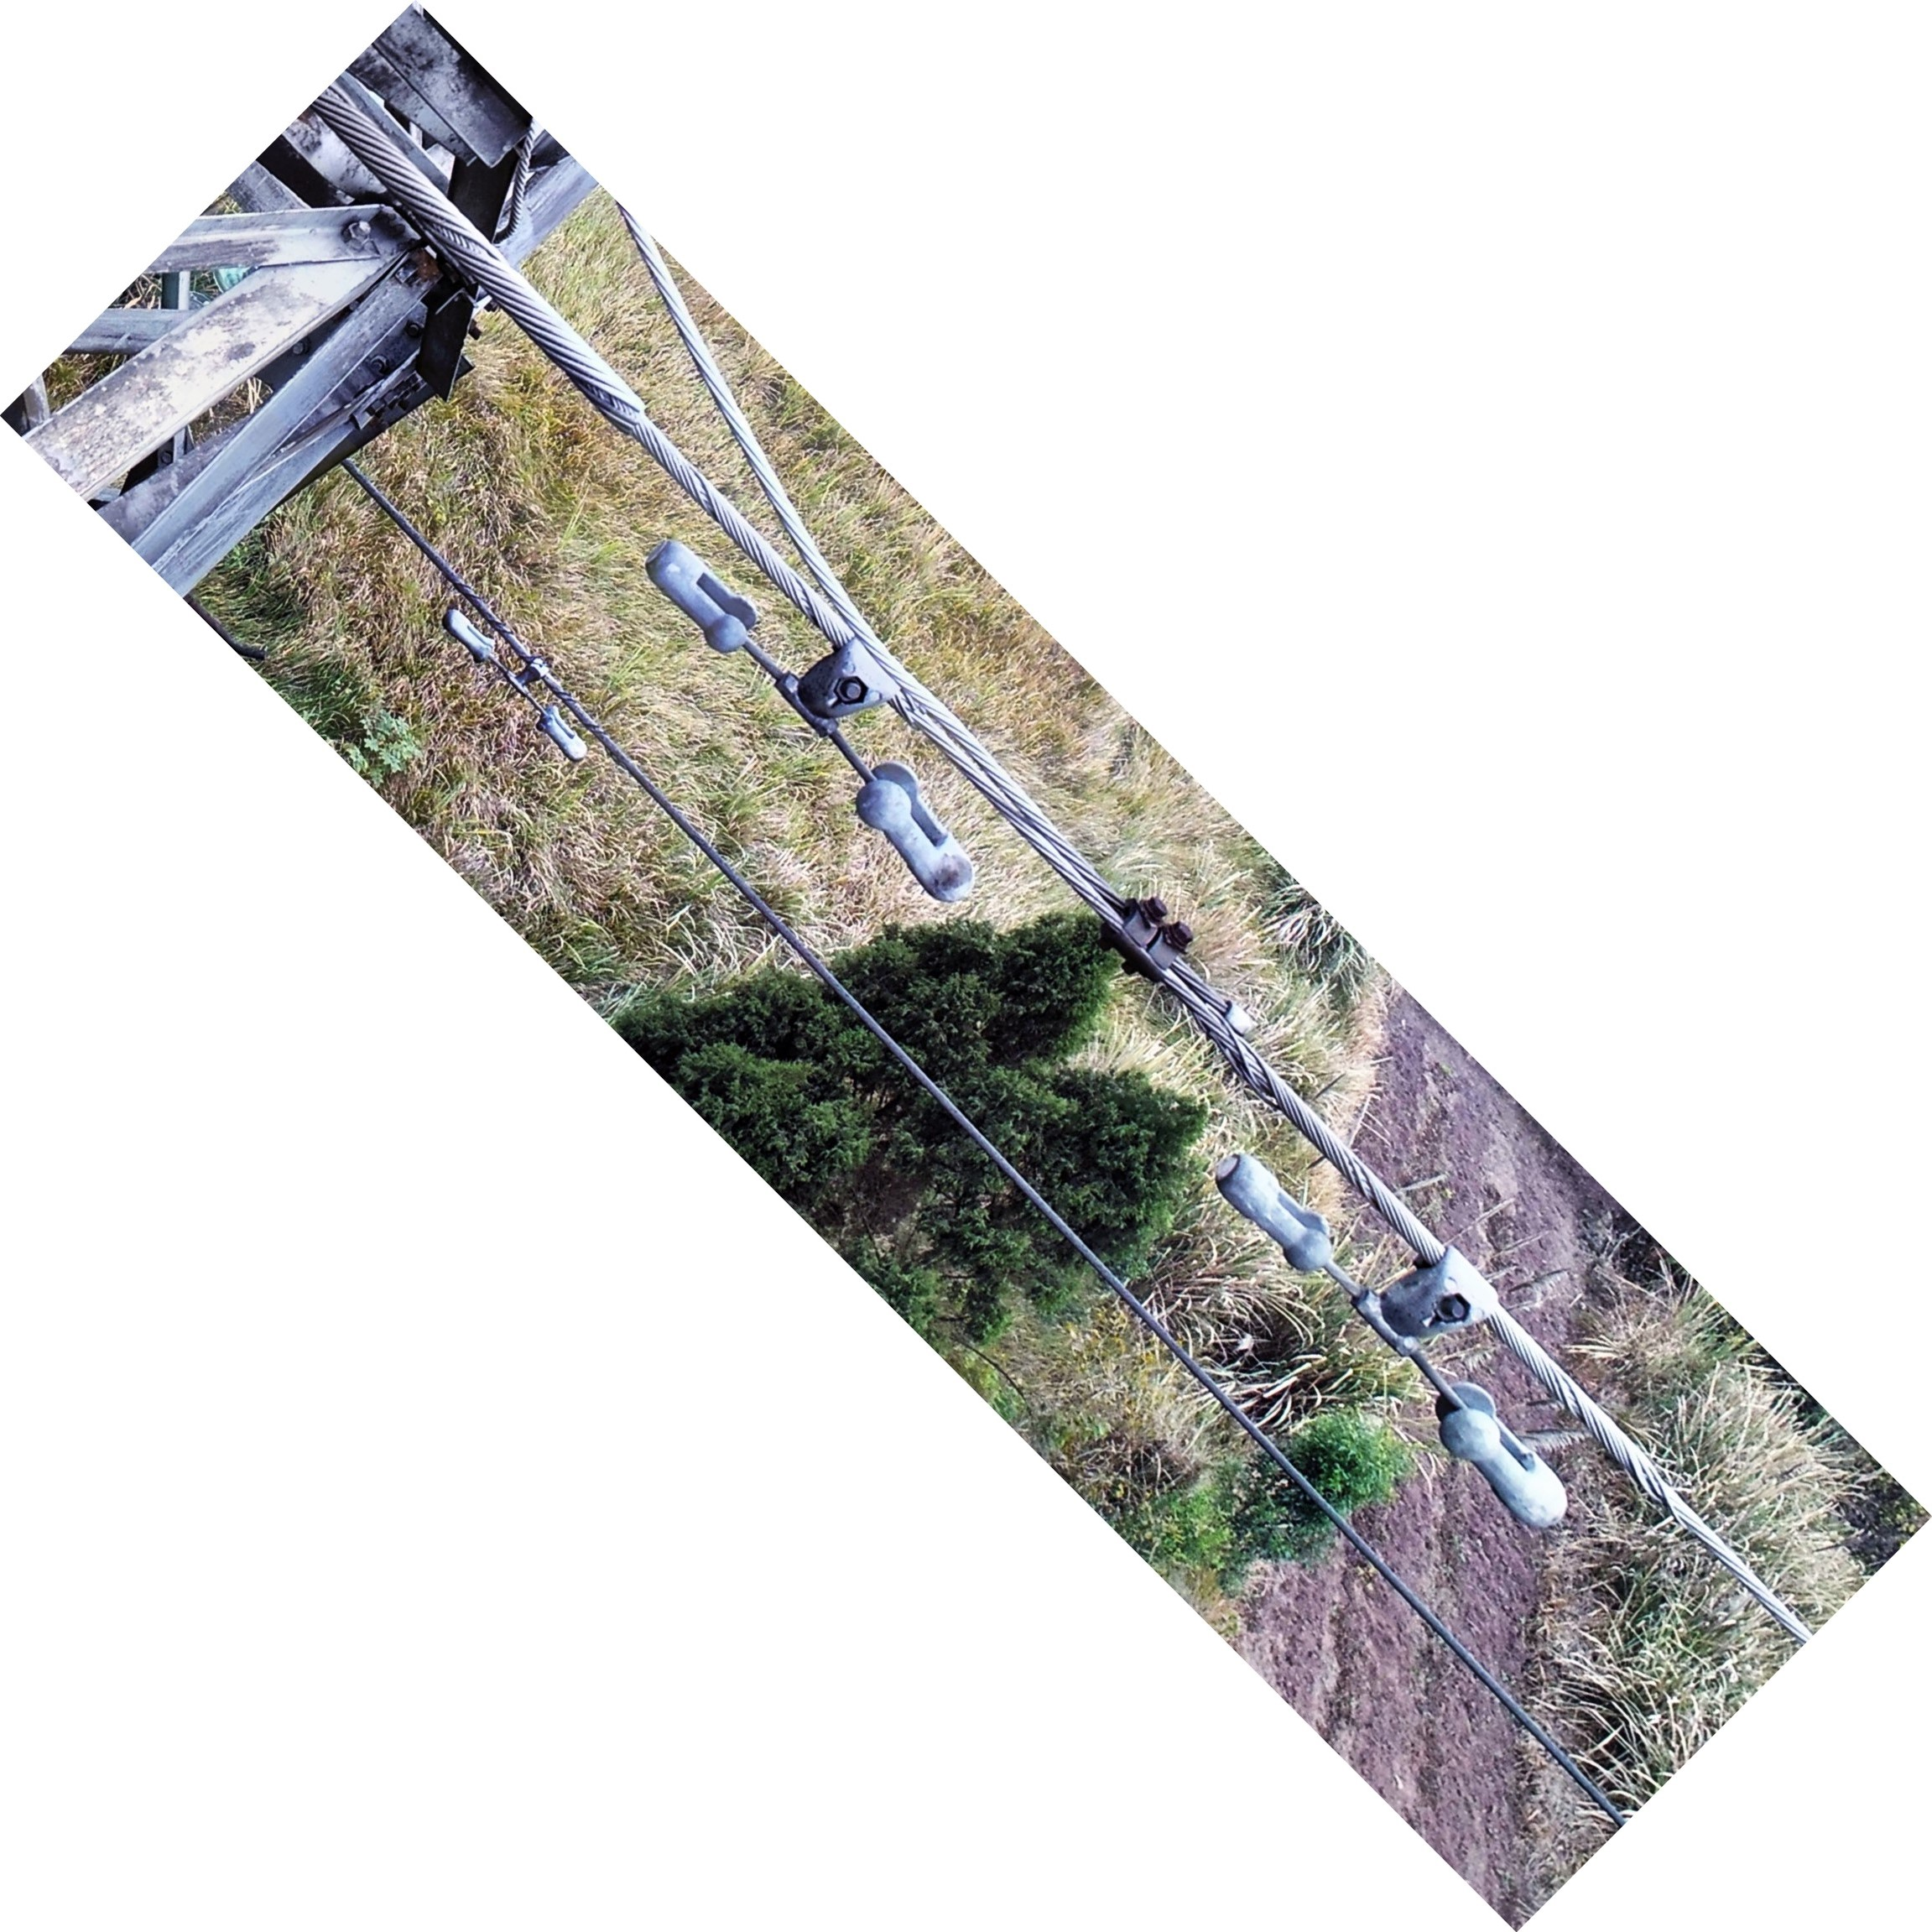Shockproof hammer: (1187, 1100, 1608, 1543), (621, 502, 1014, 925)
